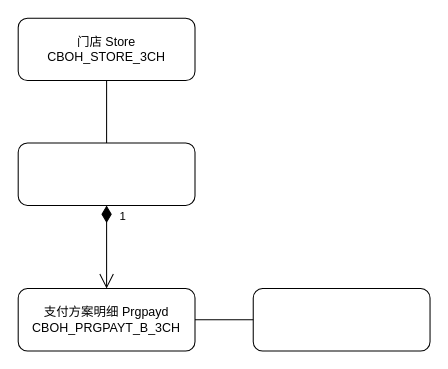
Some shapes in this 448 by 369 pixel diagram are drawn without their labels. The shapes that lost their labels are listed below. From the top down, each one's box as (x1, y1, x2, y2) in pixels, then its label:
(17, 142, 195, 205): 支付方案 Prgpaym CBOH_PRGPAYT_3CH
(252, 288, 430, 351): 支付方式 Paymode CBOH_PAYMODE_3CH
